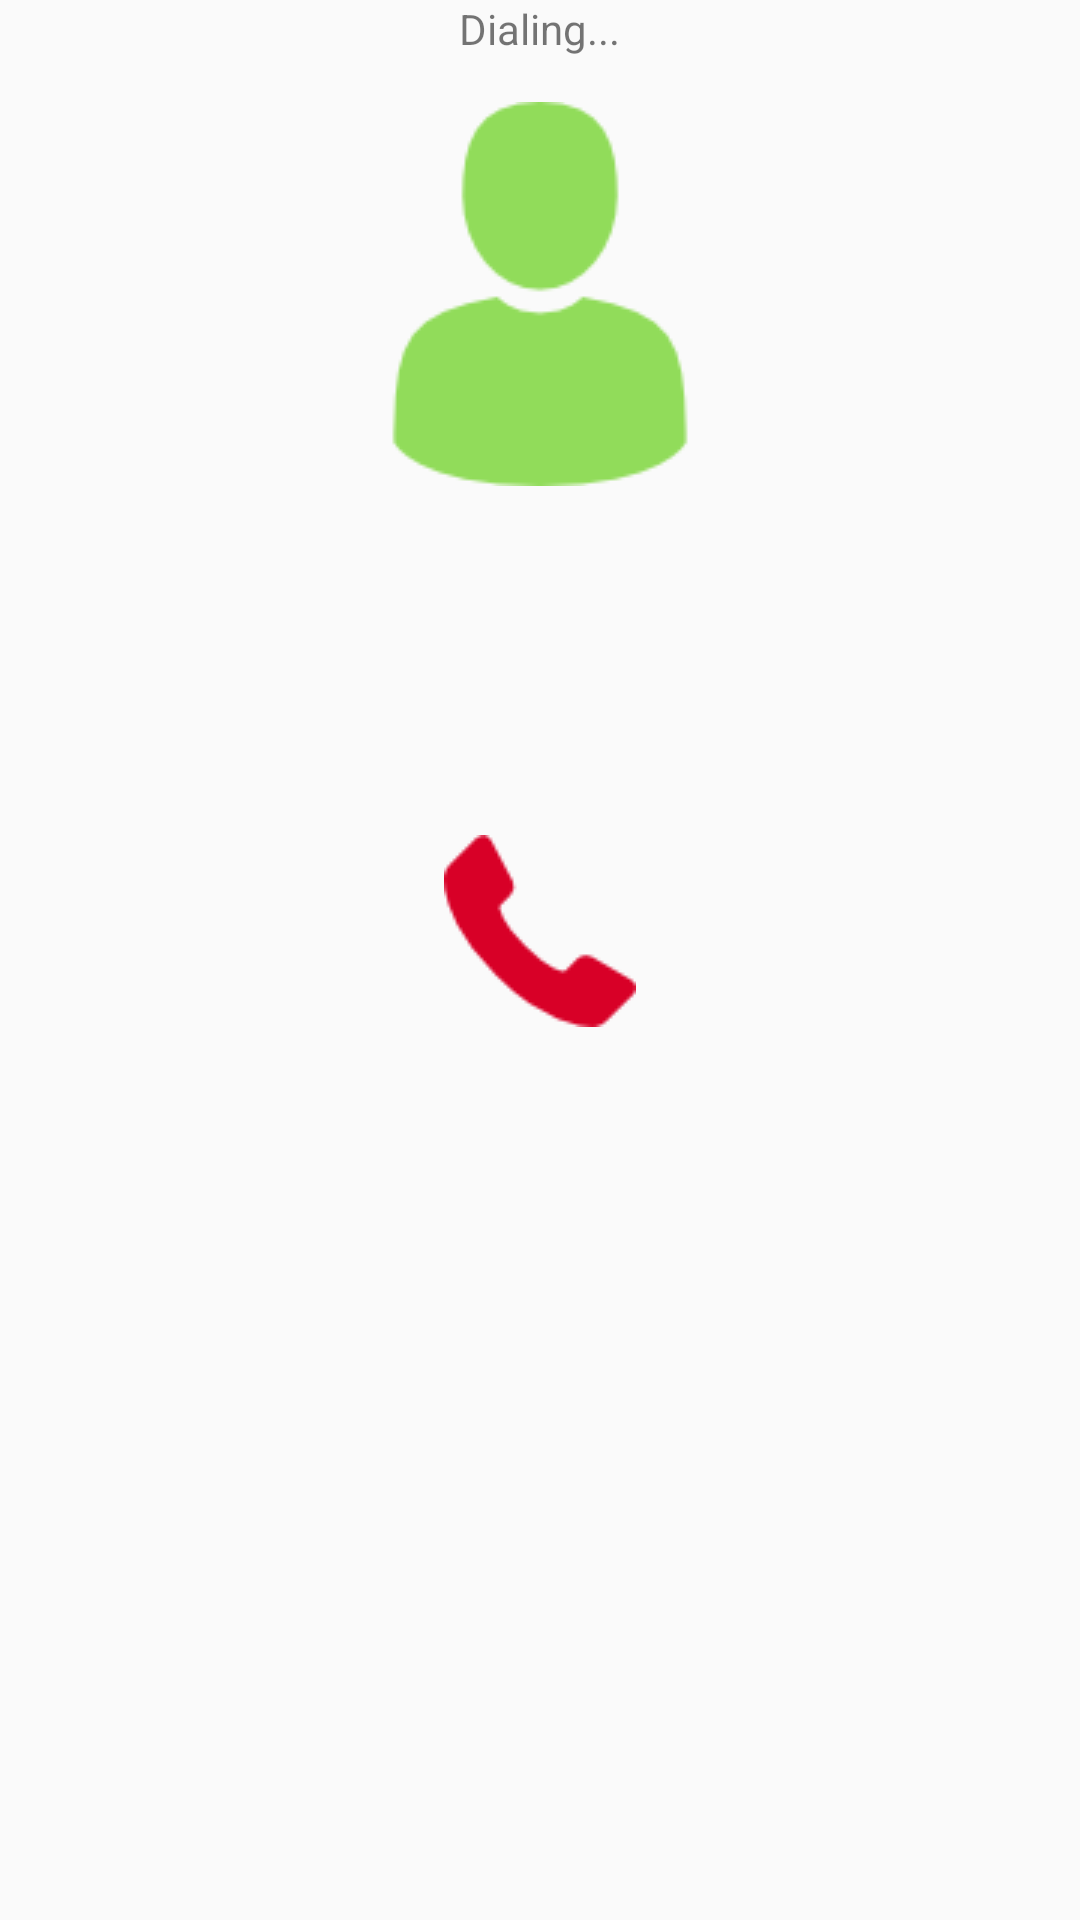

Where icons sit on this 1080 x 1920 app screen, as (x1, y1, x2, y2):
turnoff call: (444, 835, 636, 1027)
